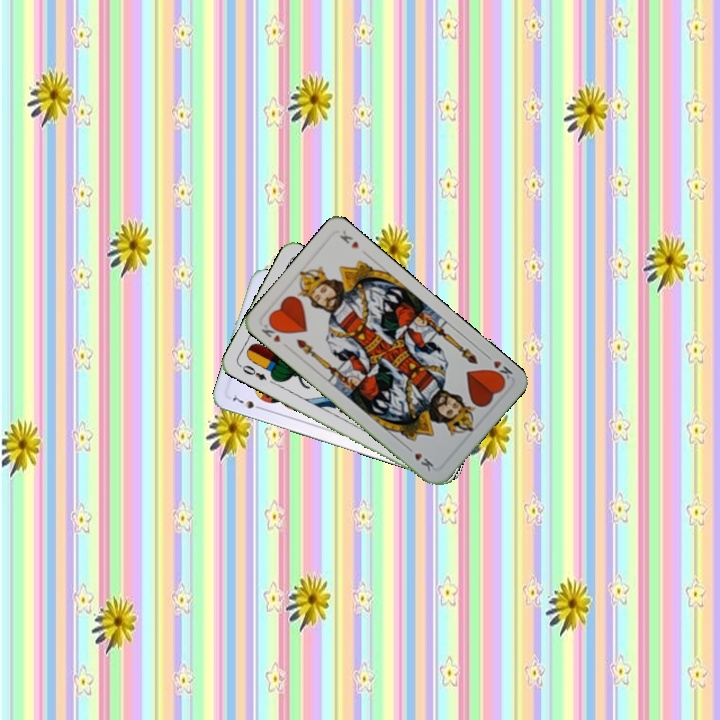EO: (235, 361, 269, 383)
HK: (481, 350, 515, 386), (257, 318, 285, 345)
S7: (229, 393, 266, 413)
